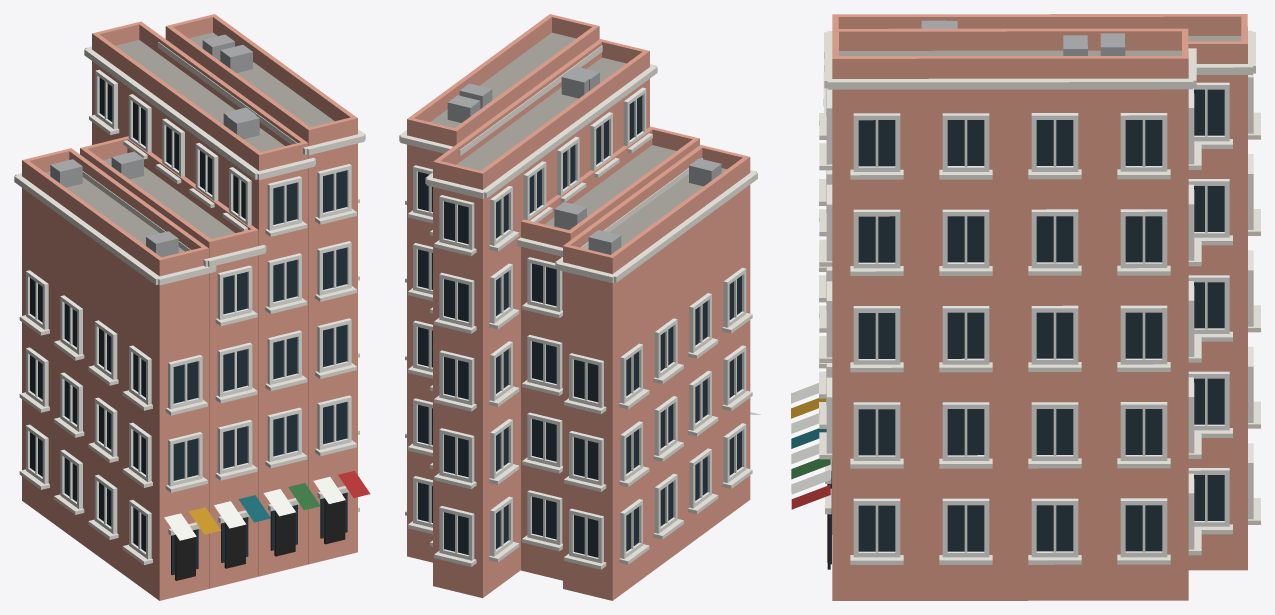
3 views of the same model, side by side, from view 1: azimuth 30°, elevation 25°; view 2: azimuth 150°, elevation 25°; view 3: azimuth 270°, elevation 25° (orthographic). The views are drawn at different scales.
Visible parts, largest first — view 1: b5109; view 2: b5109; view 3: b5109.
Boxes of the visible parts, bbox=[...] form: b5109: bbox=[14, 14, 370, 600]; b5109: bbox=[399, 14, 761, 600]; b5109: bbox=[791, 14, 1260, 600].
Size of the model in its own units: 3829 by 7344 by 5747.
